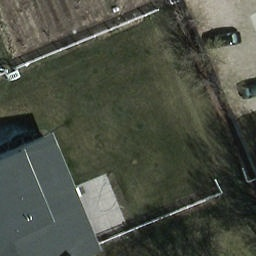car: (202, 31, 242, 49)
